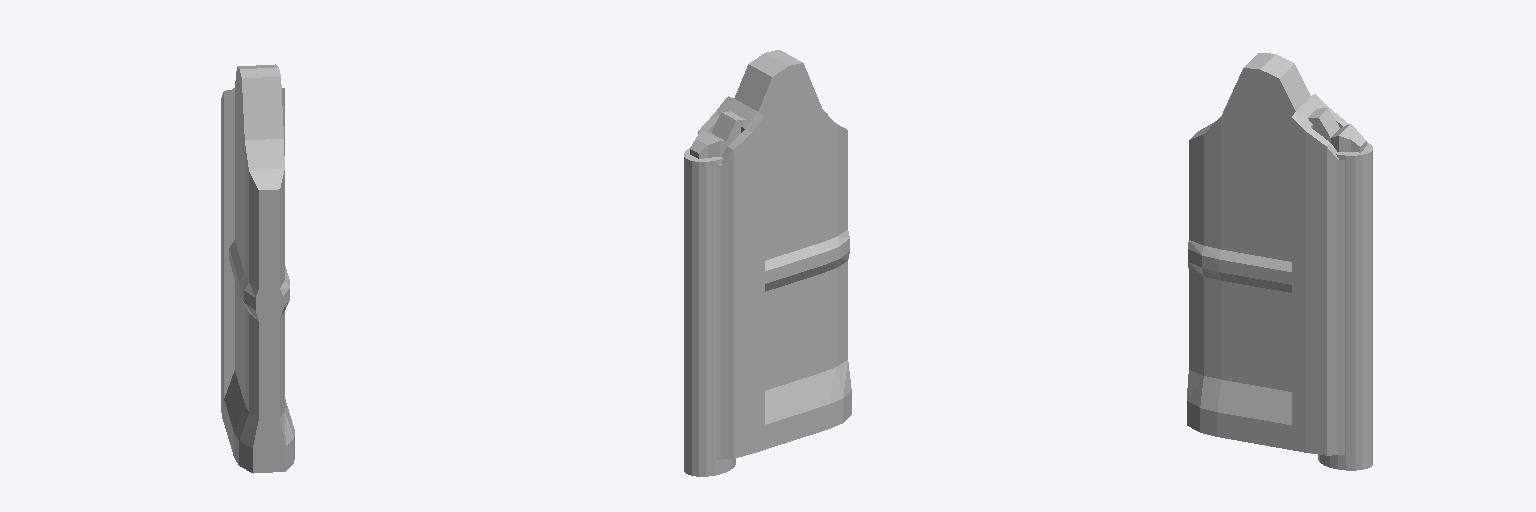
File: Door.obj
3 views of the same model, side by side, from view 1: azimuth 30°, elevation 25°; view 2: azimuth 150°, elevation 25°; view 3: azimuth 270°, elevation 25° (orthographic).
Visible parts, largest first — view 1: polySurface14; view 2: polySurface14; view 3: polySurface14.
Boxes of the visible parts, <box> form: polySurface14: <box>221,64,294,473</box>; polySurface14: <box>684,50,851,476</box>; polySurface14: <box>1187,53,1372,470</box>.
Size of the model in its own units: 0.3946 by 1.59 by 0.6973.